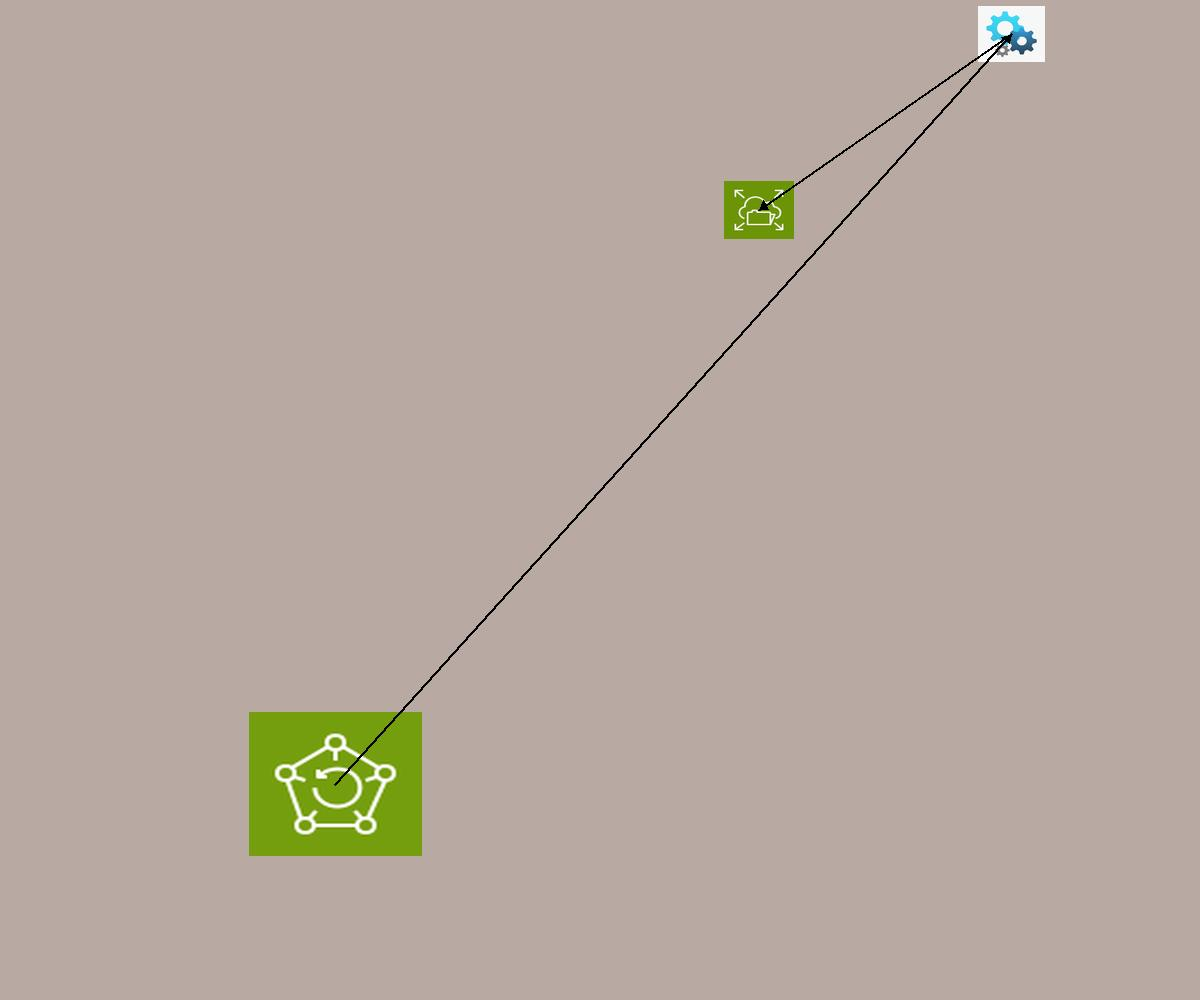AWS-Backup: (249, 712, 422, 856)
AWS-EFS: (724, 181, 794, 239)
Azure_api: (978, 6, 1045, 62)
